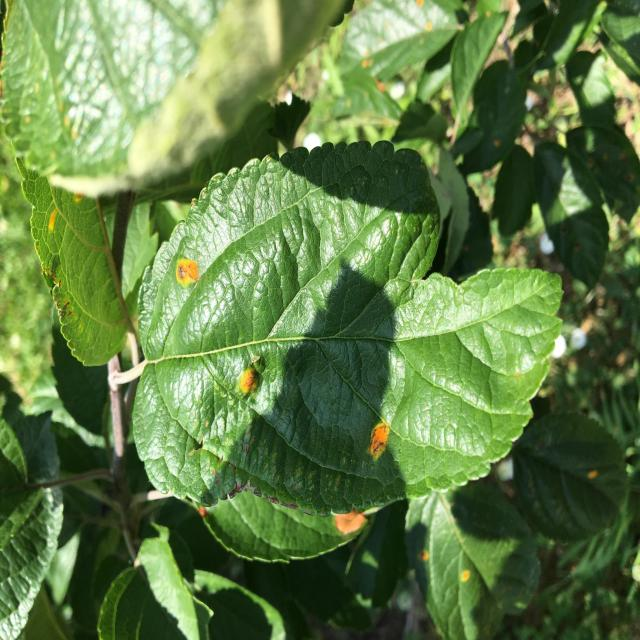Rust: (318, 491, 370, 550), (233, 341, 265, 415), (173, 235, 205, 308), (369, 404, 397, 474), (408, 543, 433, 573), (452, 564, 475, 589)
